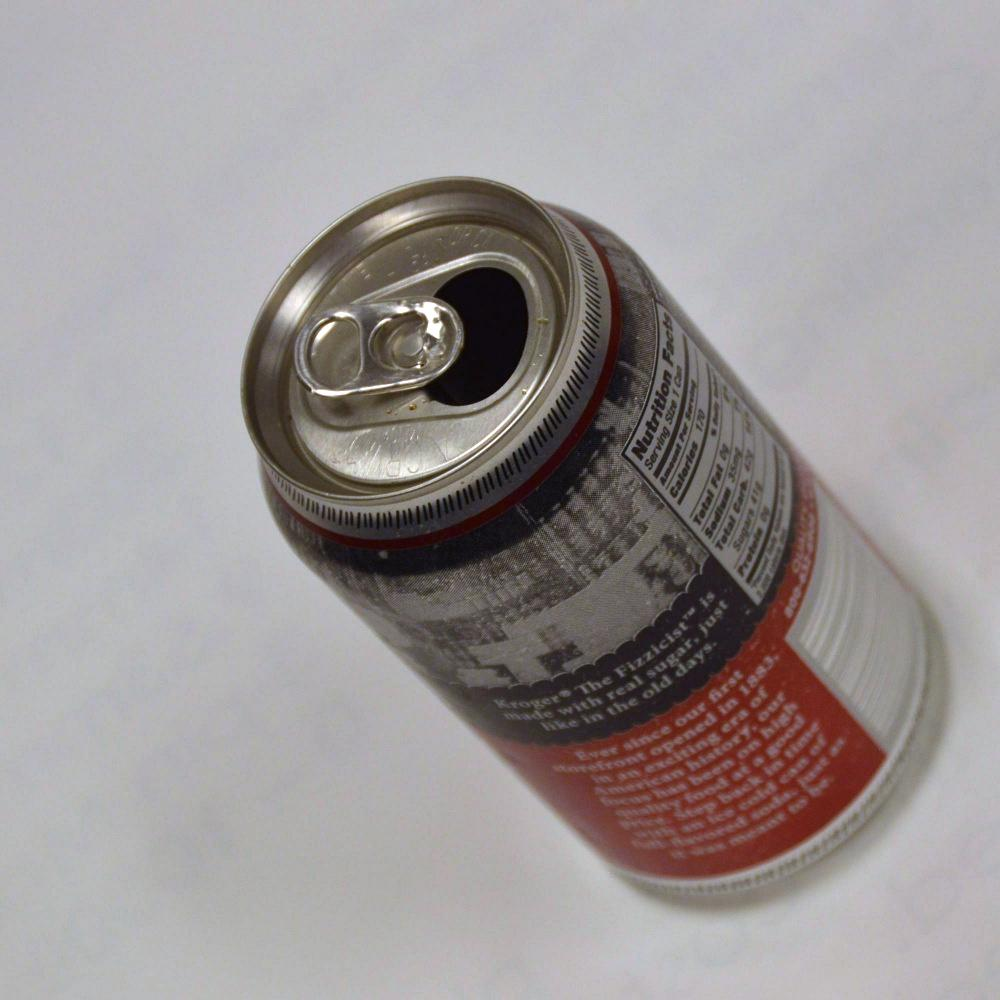Metal: (201, 128, 980, 932)
